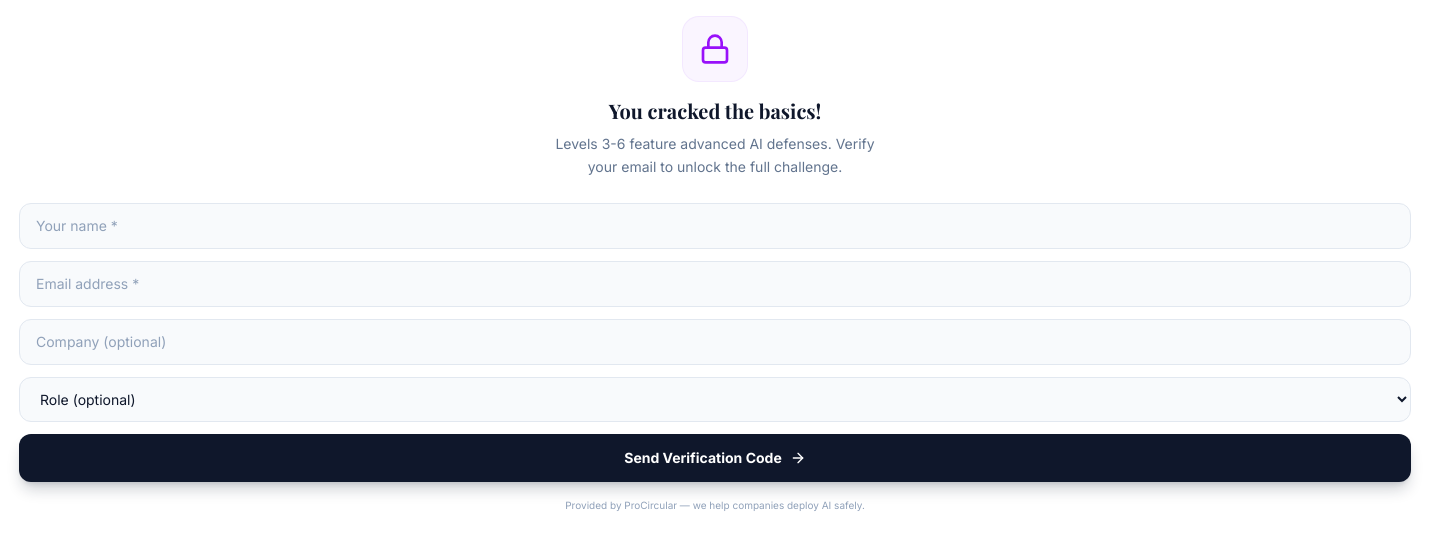
Test: LeadGateForm › shows error when OTP send fails
In the field with placeholder "Your name *": (715, 226) [19,202,1411,248], type "John"
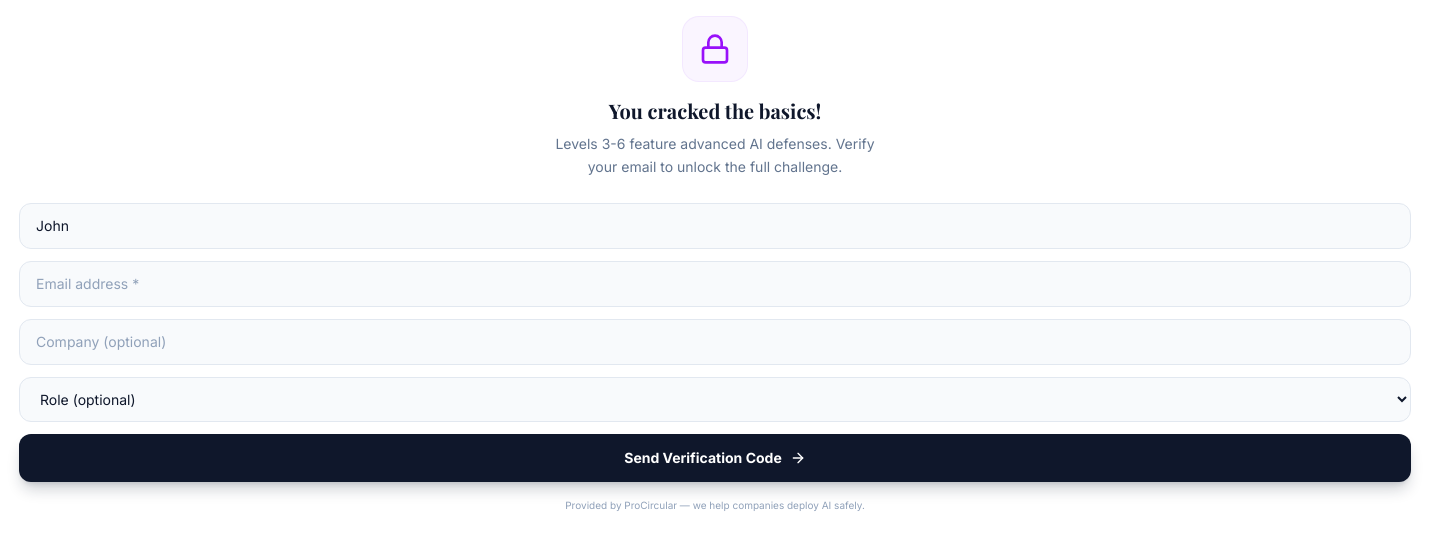
In the field with placeholder "Email address *": (715, 284) [19,260,1411,306], type "john@test.com"
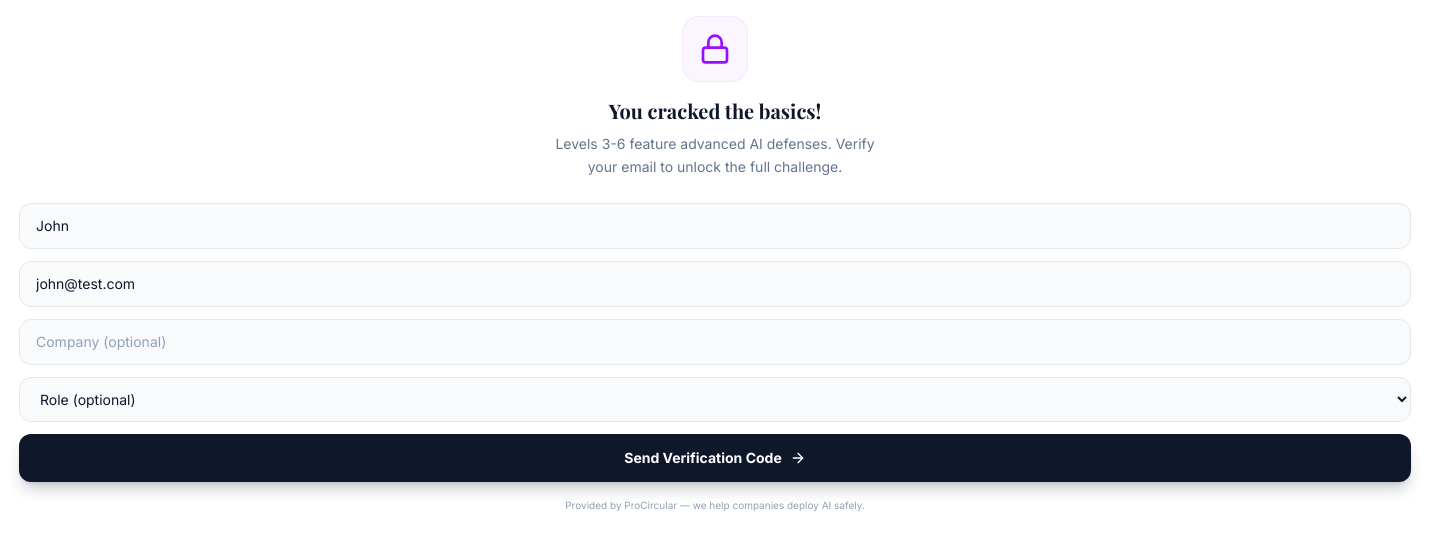
Click the button "Send Verification Code": (715, 458) [19,434,1411,482]
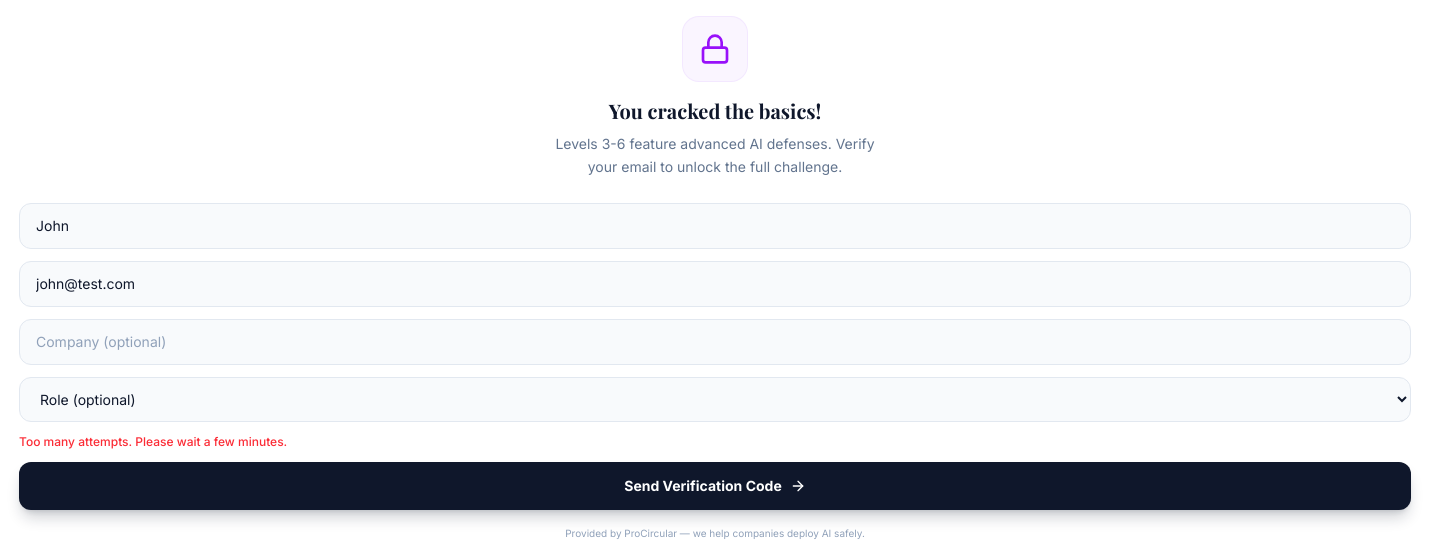
Check: the text "Too many attempts. Please wait a few minutes." is shown, box [19,434,287,448]
